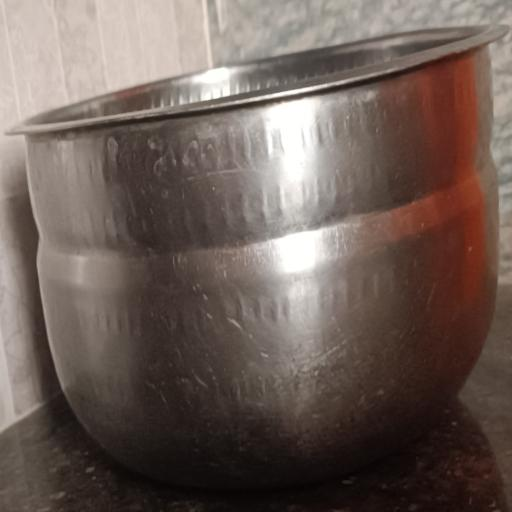vessel: (22, 28, 502, 486)
